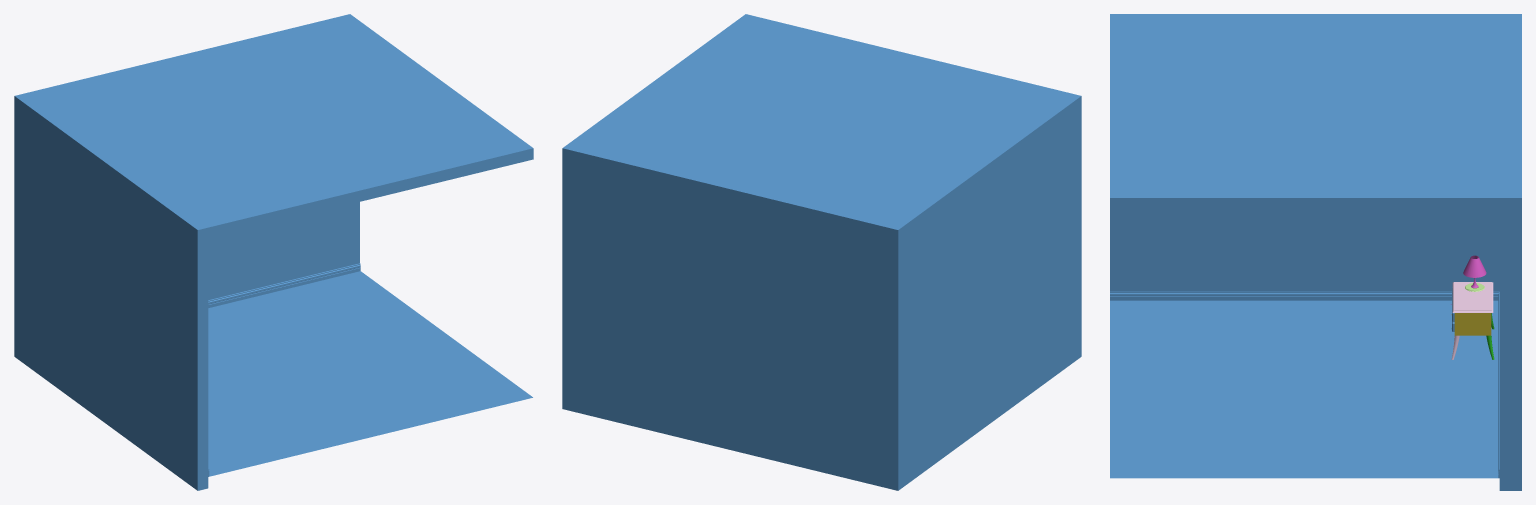
File: room.glb
3 renders of one model, left to right at view 1: azimuth 30°, elevation 25°; view 2: azimuth 150°, elevation 25°; view 3: azimuth 270°, elevation 25°, orthographic. The views are drawn at different scales.
Parts seen in each view (by area): view 1: Node36; view 2: Node36; view 3: Node36, Node23, Node19.
Boxes of the visible parts, x1,y1,x2,y2 form: Node36: (14,14,533,490); Node36: (562,14,1081,490); Node36: (1110,14,1521,490); Node23: (1452,282,1493,312); Node19: (1454,313,1491,335).
Size of the model in its own units: 4274 by 3172 by 4043.
